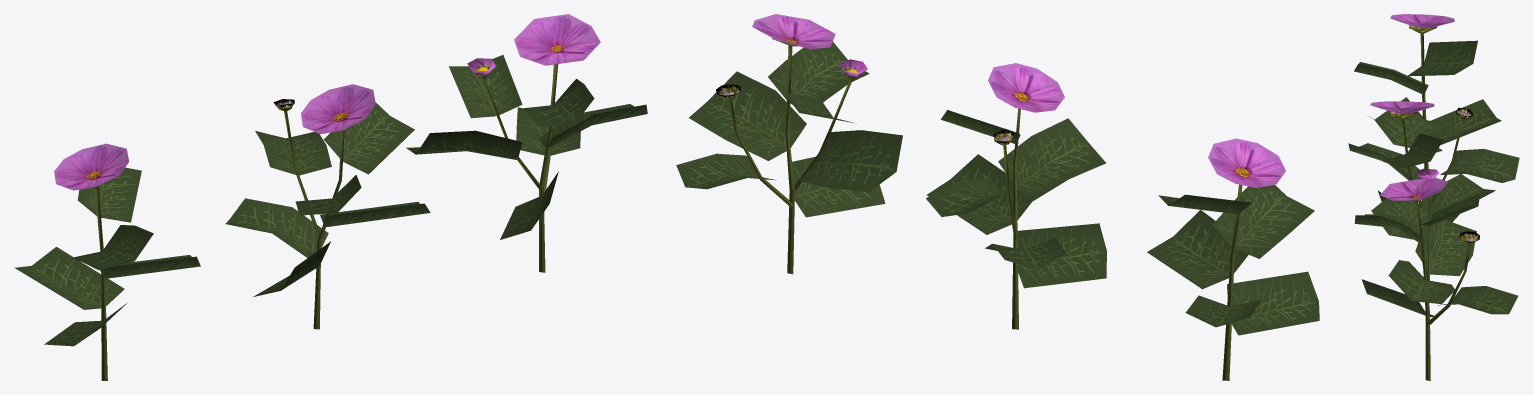
Rendered from Cosmos_m.FBX.
3 renders of one model, left to right at view 1: azimuth 30°, elevation 25°; view 2: azimuth 150°, elevation 25°; view 3: azimuth 270°, elevation 25°, orthographic. The views are drawn at different scales.
Parts seen in each view (by area): view 1: cosmos01, cosmos02, cosmos003; view 2: cosmos01, cosmos02, cosmos003; view 3: cosmos01, cosmos02, cosmos003.
Boxes of the visible parts, left/top/right/bottom form: cosmos01: left=406, top=14, right=647, bottom=272; cosmos02: left=225, top=84, right=430, bottom=329; cosmos003: left=14, top=143, right=200, bottom=380; cosmos01: left=676, top=14, right=902, bottom=274; cosmos02: left=926, top=63, right=1106, bottom=329; cosmos003: left=1147, top=138, right=1319, bottom=380; cosmos01: left=1354, top=168, right=1518, bottom=380; cosmos02: left=1348, top=101, right=1519, bottom=280; cosmos003: left=1354, top=14, right=1501, bottom=168.
Size of the model in its own units: 206 by 79.23 by 60.95.
